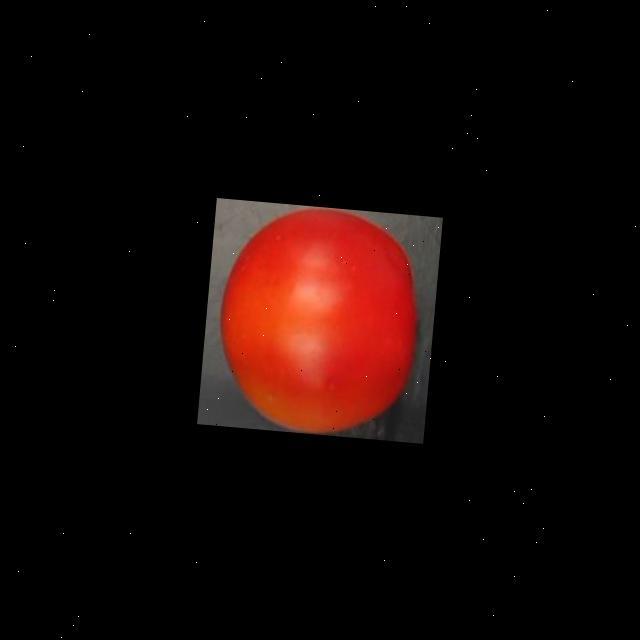tomato: (207, 201, 431, 442)
